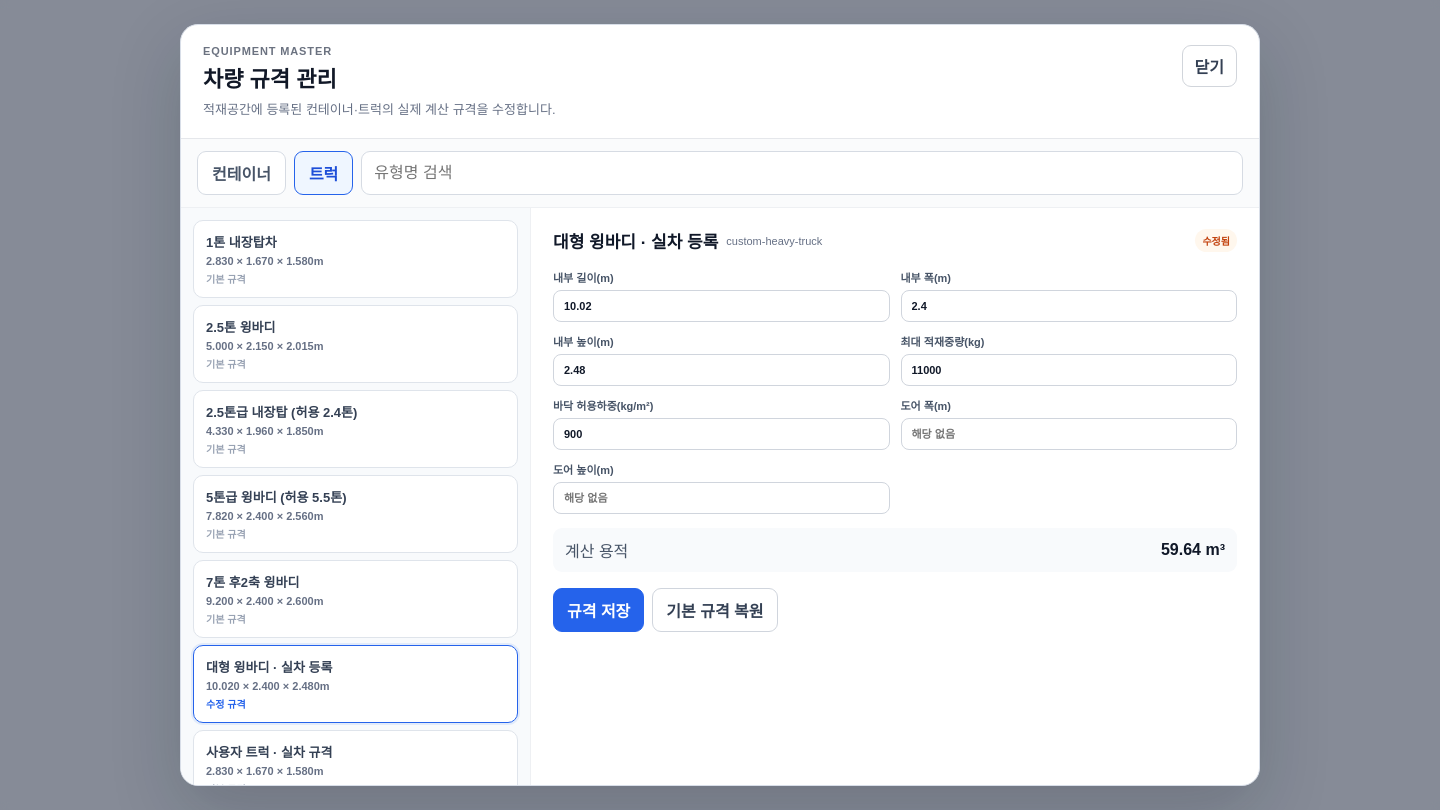
restores a large reference template without applying zero ratings or losing current actual data
This screenshot has width=1440, height=810.
Click the button "기본 규격 복원": (715, 610) 652,588 -> 778,632
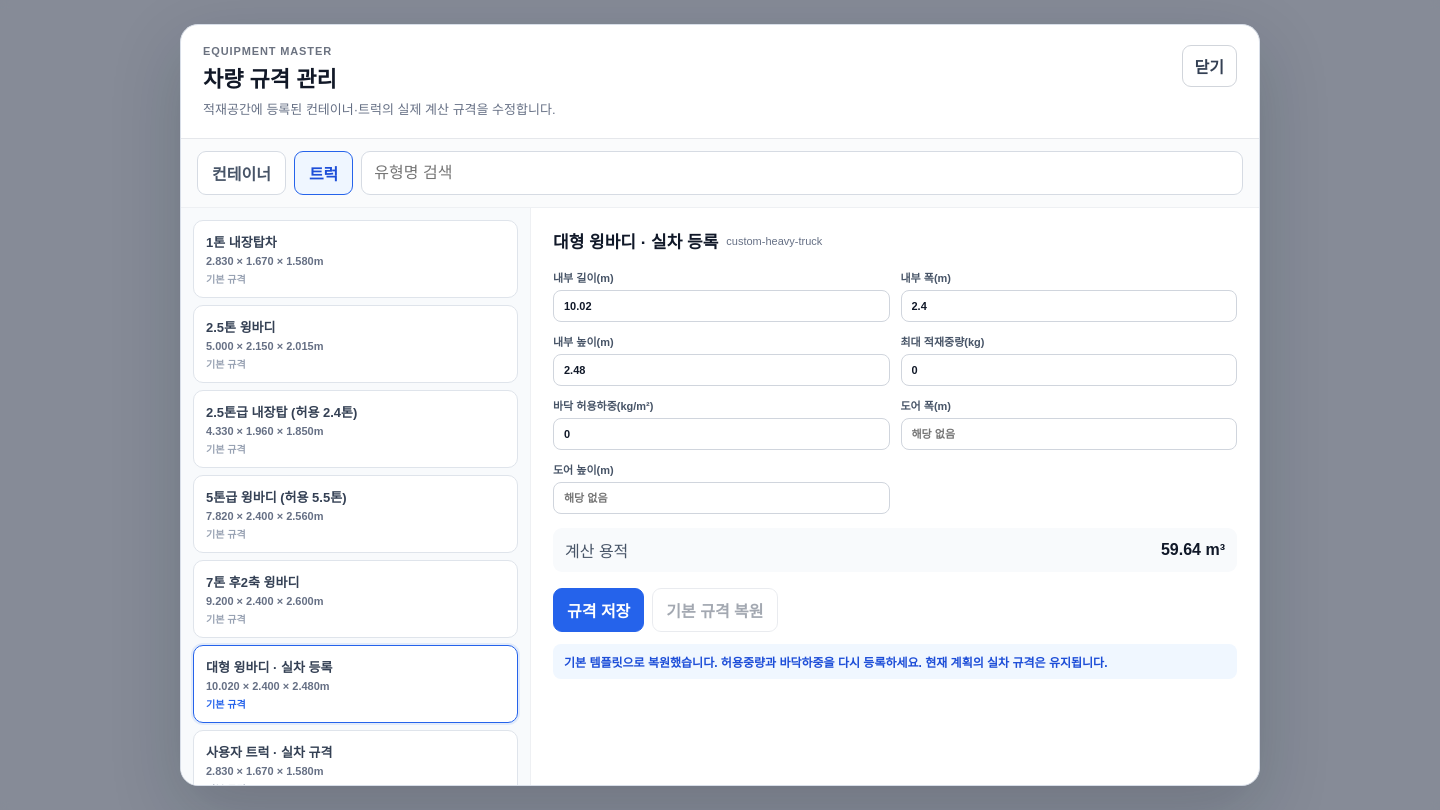
expect the text "현재 계획의 실차 규격은 유지됩니다" is shown: met, box 564,656 -> 1108,670
